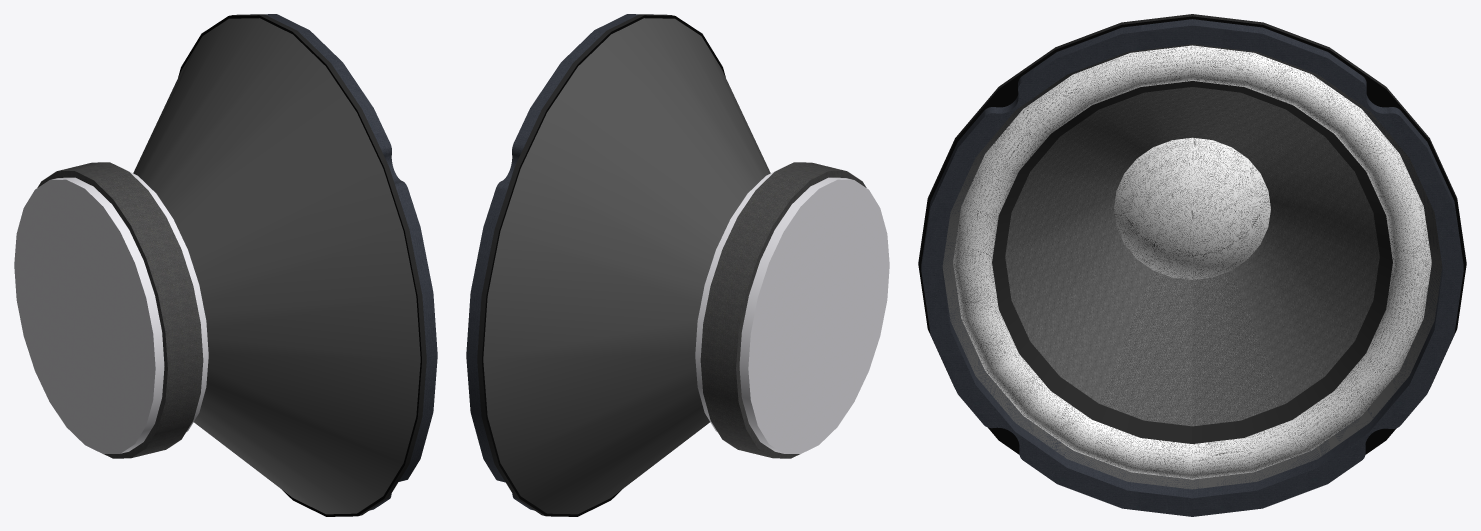
The model's file is COMP140_Speaker_WIP_Model.dae.
The picture shows the model from 3 angles, left to right: view 1: azimuth 30°, elevation 25°; view 2: azimuth 150°, elevation 25°; view 3: azimuth 270°, elevation 25°; orthographic projection. The views are drawn at different scales.
Visible parts, largest first — view 1: SketchUp (×7); view 2: SketchUp (×7); view 3: SketchUp (×9).
Part boxes in pixels (left/top/right/bottom): SketchUp (×7): left=14, top=14, right=437, bottom=516; SketchUp (×7): left=466, top=14, right=889, bottom=516; SketchUp (×9): left=918, top=14, right=1466, bottom=516.
Bounding box in the file's own units: 196 × 390 × 390.
8 materials, 4 textured.
